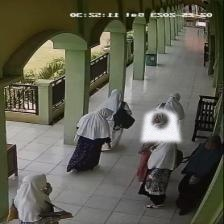Mukena: (141, 108, 180, 141)
